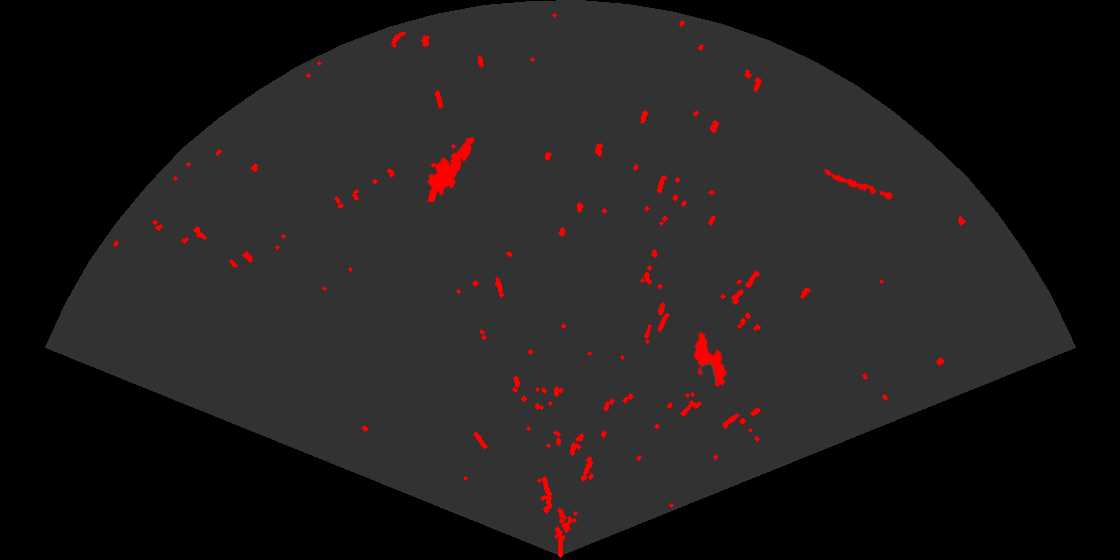AUV: (692, 330, 729, 389)
chain: (821, 167, 895, 202)
frogman: (426, 135, 476, 202)
